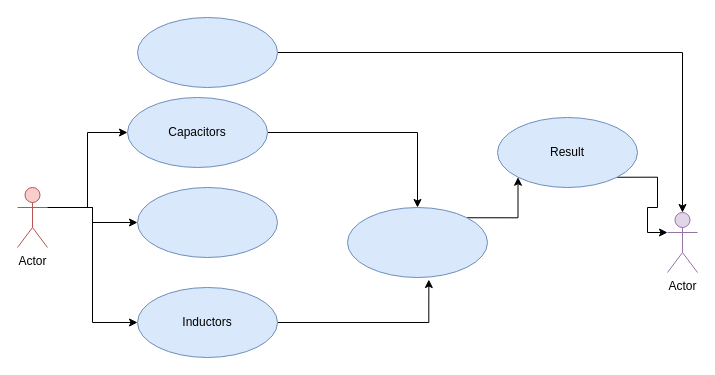
This 715x375 diagram has some shape labels left out. The box of each missing label's shape, as (x1, y1, x2, y2) in pixels:
Resistor: (136, 186, 278, 258)
Series Equivalent: (346, 206, 488, 278)
View Menu: (136, 16, 278, 88)
